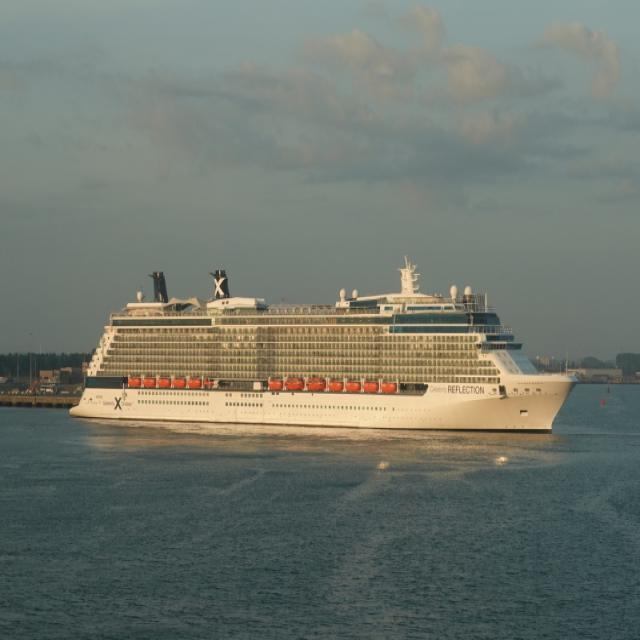cruises: (67, 262, 583, 440)
